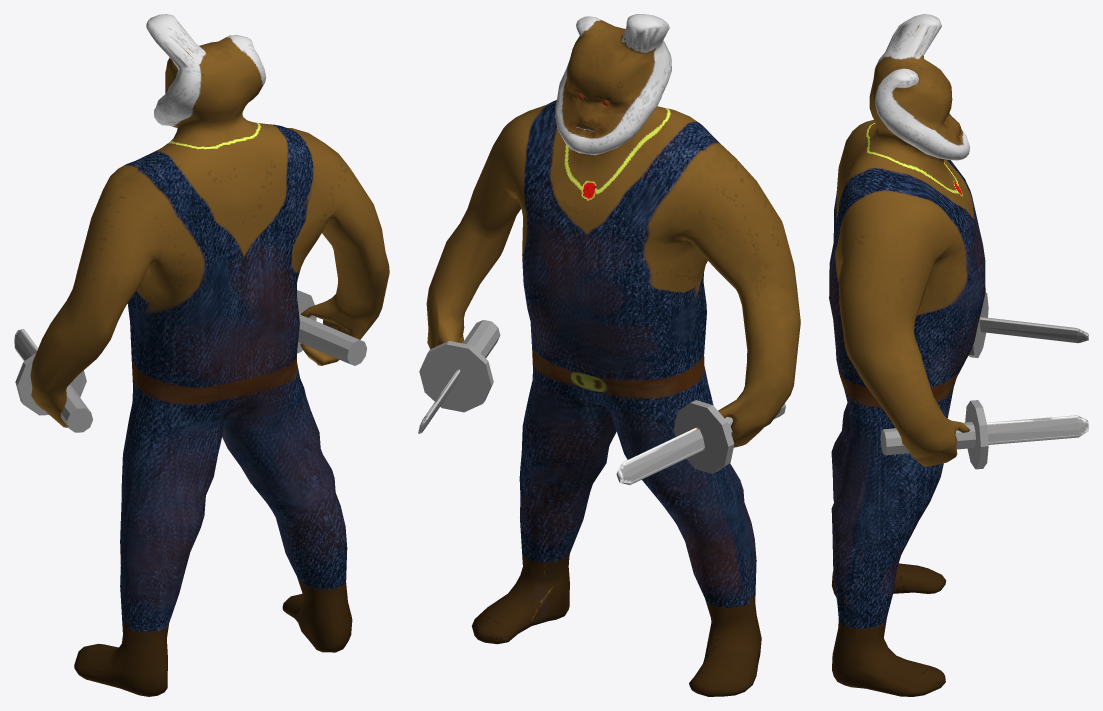
Rendered from PogMesh.fbx.
3 renders of one model, left to right at view 1: azimuth 30°, elevation 25°; view 2: azimuth 150°, elevation 25°; view 3: azimuth 270°, elevation 25°, orthographic. The views are drawn at different scales.
Visible parts, largest first — view 1: Pog; view 2: Pog; view 3: Pog.
Boxes of the visible parts, x1,y1,x2,y2 form: Pog: [14, 14, 389, 696]; Pog: [418, 14, 800, 696]; Pog: [829, 14, 1088, 696].
Size of the model in its own units: 1.05 by 1.84 by 0.7132.
Materials: 1 (1 with a texture image).
